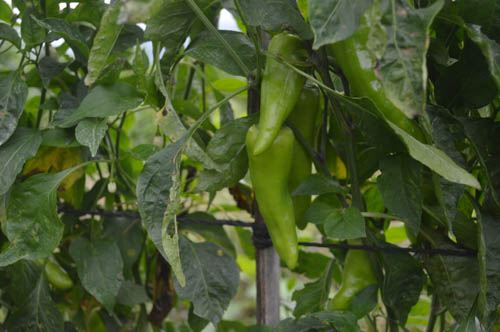ChiliPepper: (332, 27, 421, 141), (241, 125, 304, 273), (252, 35, 308, 160), (281, 87, 314, 232), (332, 245, 382, 316)
